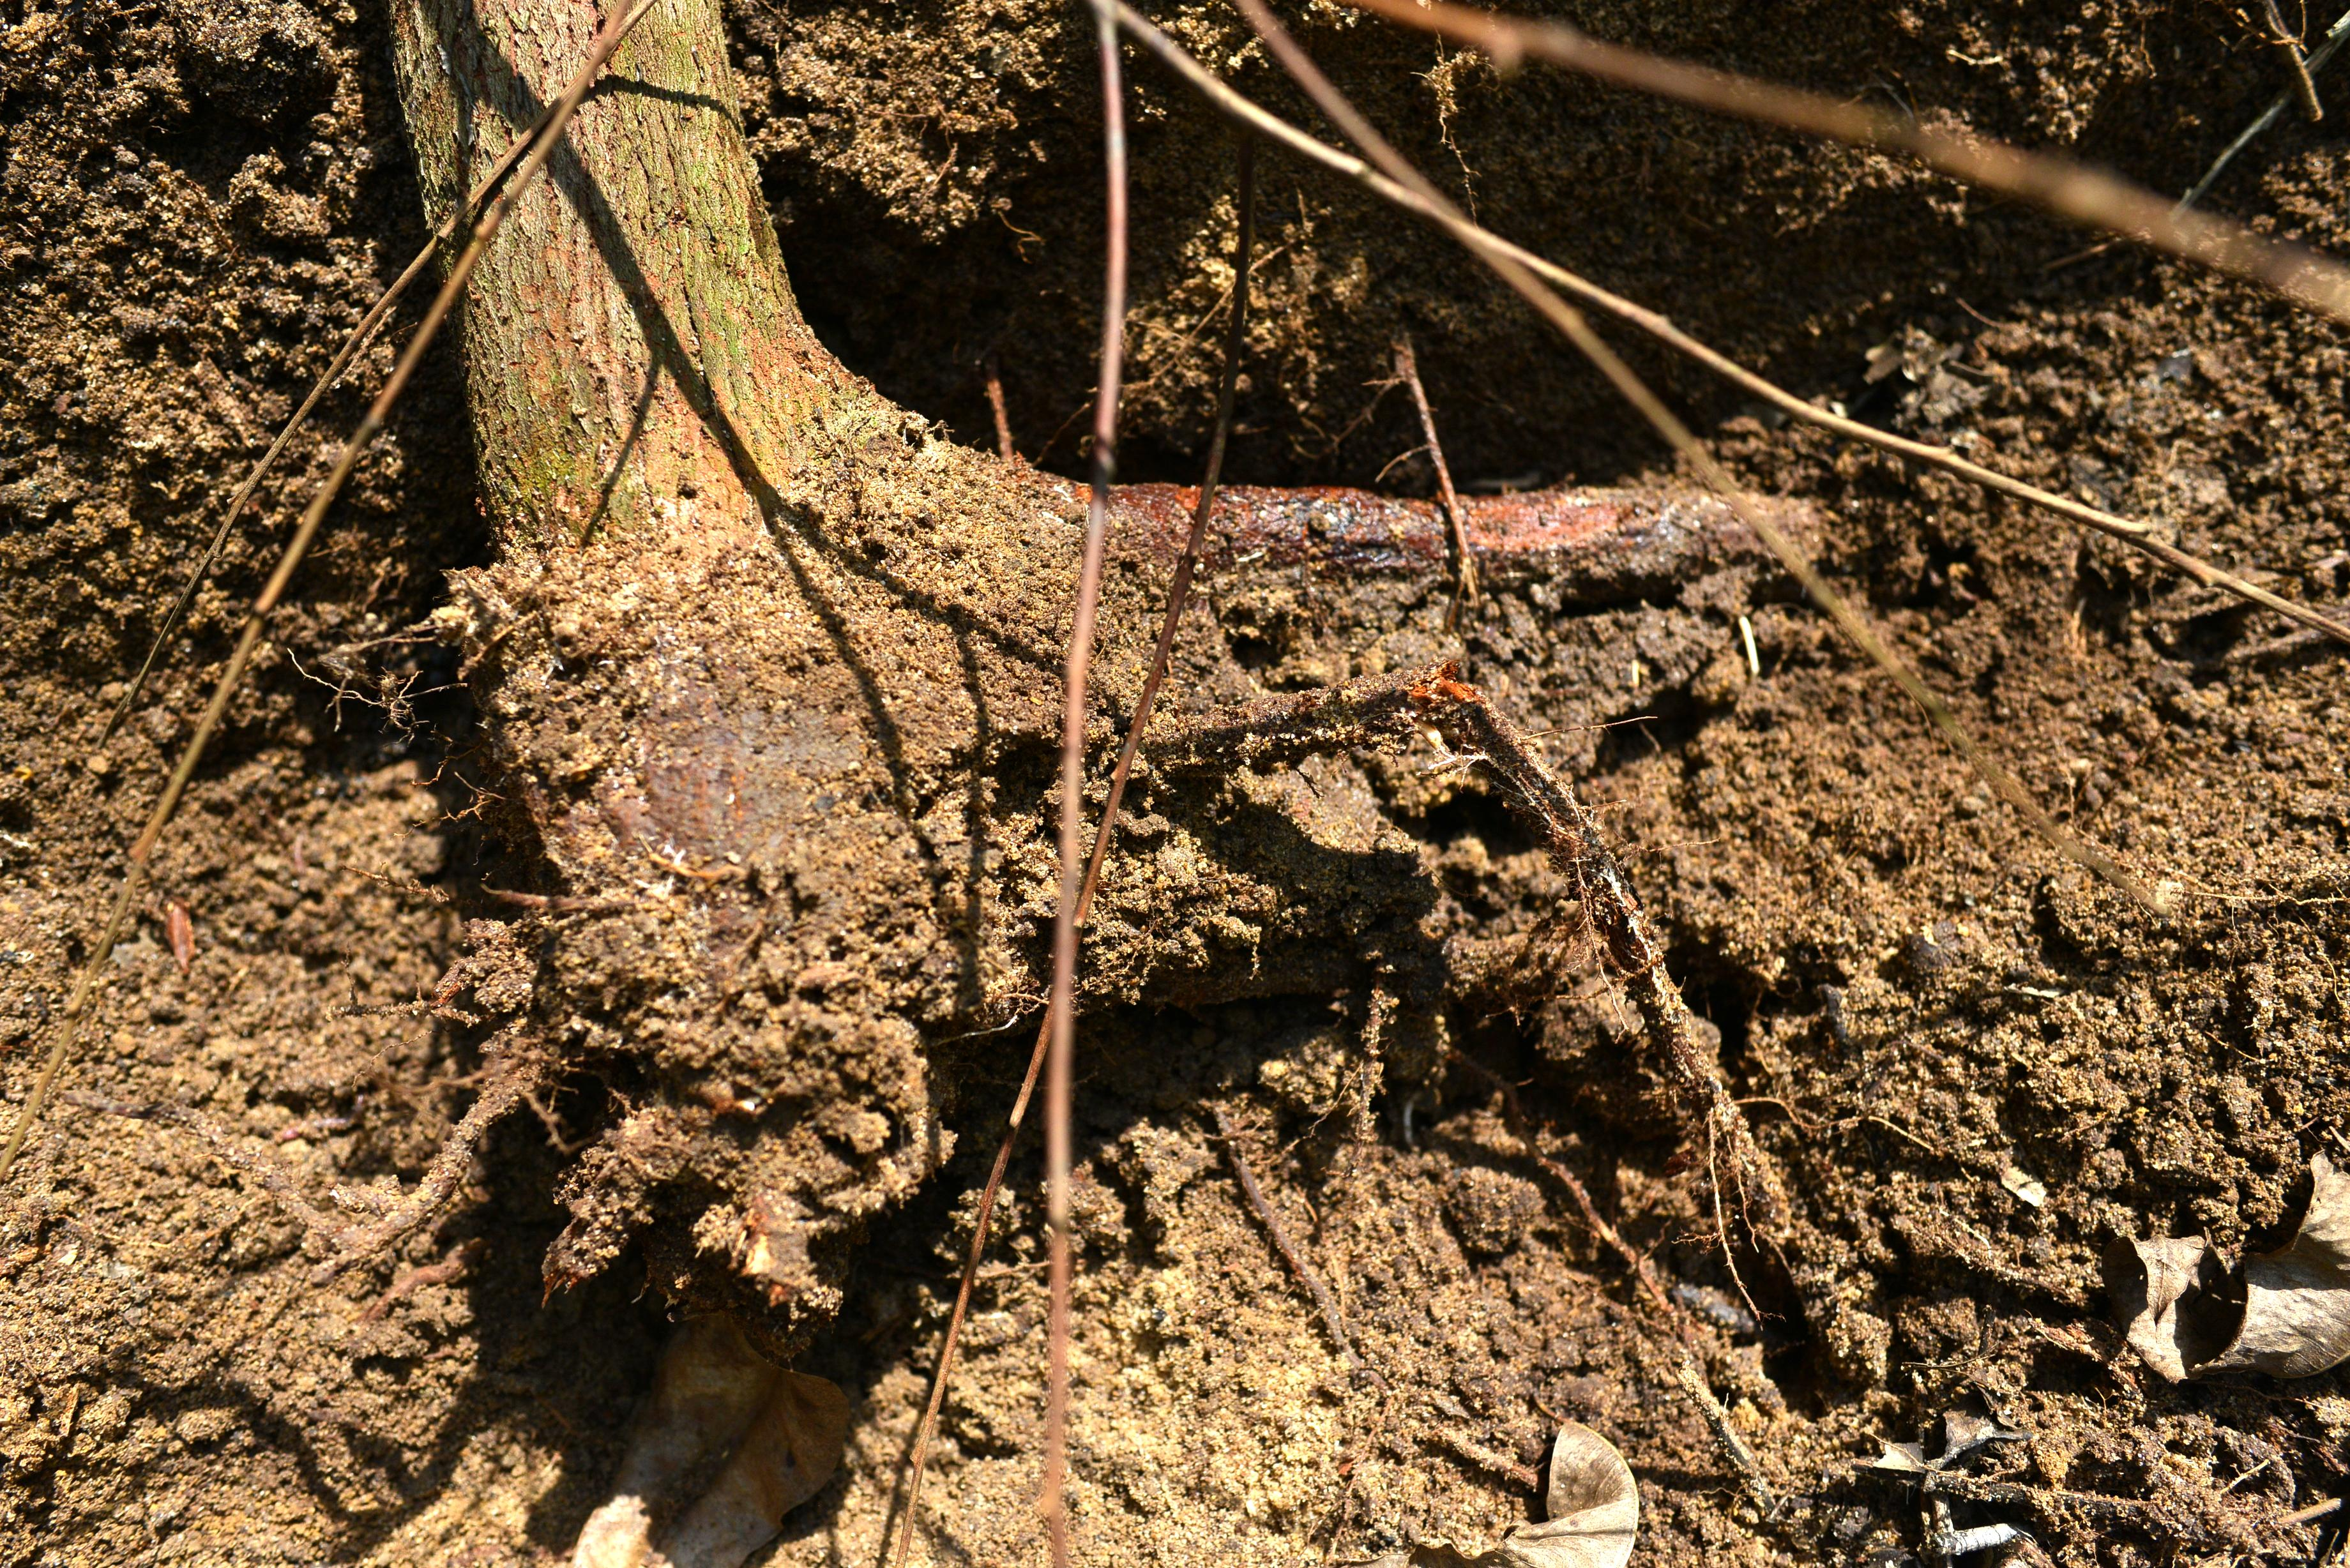Red Root Rot - Secretion: (1052, 457, 1715, 551)
